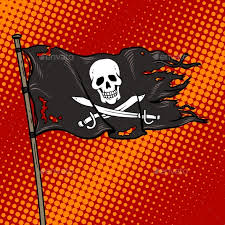Jolly Roger Flag: (18, 41, 210, 144)
